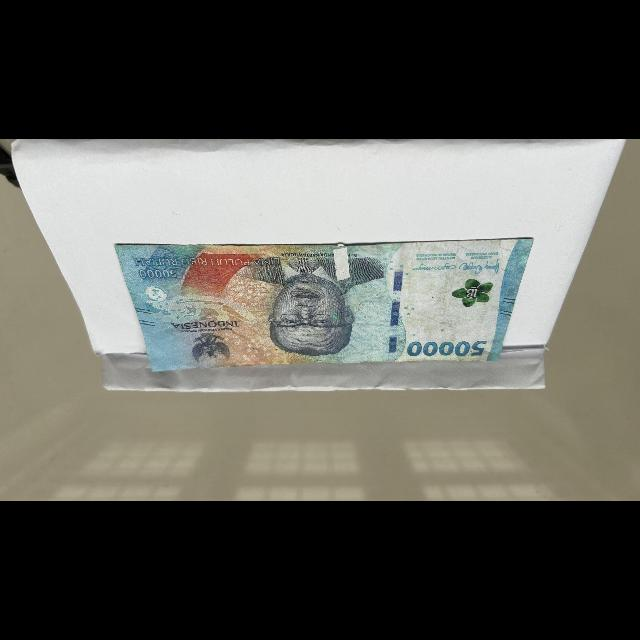Palsu-50k: (112, 229, 541, 376)
Tinta-Palsu-50k: (448, 278, 495, 308)
